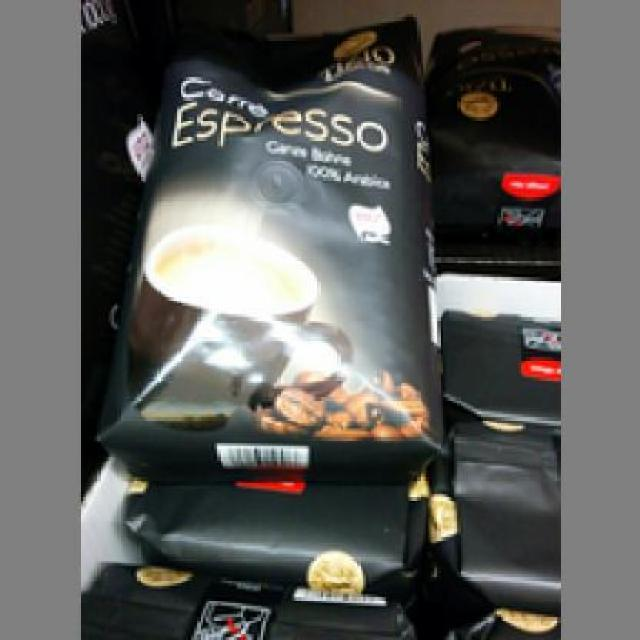Coffee: (103, 8, 446, 486)
